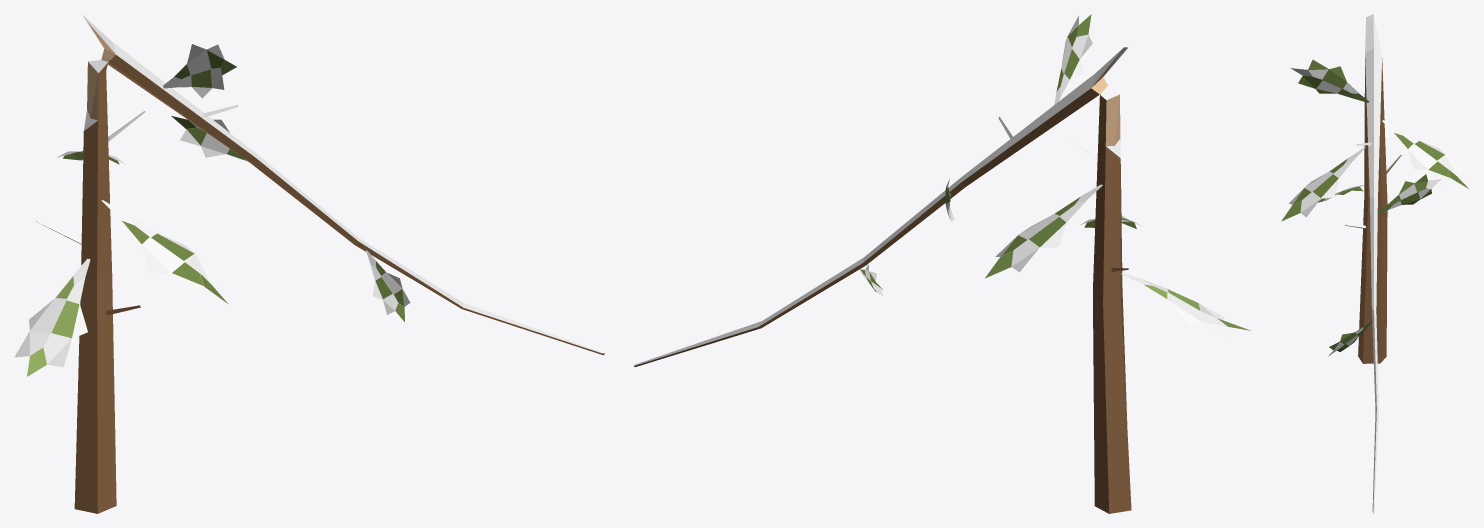
File: Dead_Pine_Tree_crk_l_Snow_06_LOD.fbx
The picture shows the model from 3 angles, left to right: view 1: azimuth 30°, elevation 25°; view 2: azimuth 150°, elevation 25°; view 3: azimuth 270°, elevation 25°; orthographic projection. The views are drawn at different scales.
Visible parts, largest first — view 1: Dead_Pine_Tree_crk_l_Snow_06_LOD0; view 2: Dead_Pine_Tree_crk_l_Snow_06_LOD0; view 3: Dead_Pine_Tree_crk_l_Snow_06_LOD0.
Boxes of the visible parts, left/top/right/bottom form: Dead_Pine_Tree_crk_l_Snow_06_LOD0: left=14, top=15, right=604, bottom=513; Dead_Pine_Tree_crk_l_Snow_06_LOD0: left=634, top=14, right=1251, bottom=513; Dead_Pine_Tree_crk_l_Snow_06_LOD0: left=1281, top=14, right=1468, bottom=513.
Size of what is drawn, in the model's own units: 1155 by 878 by 441.
